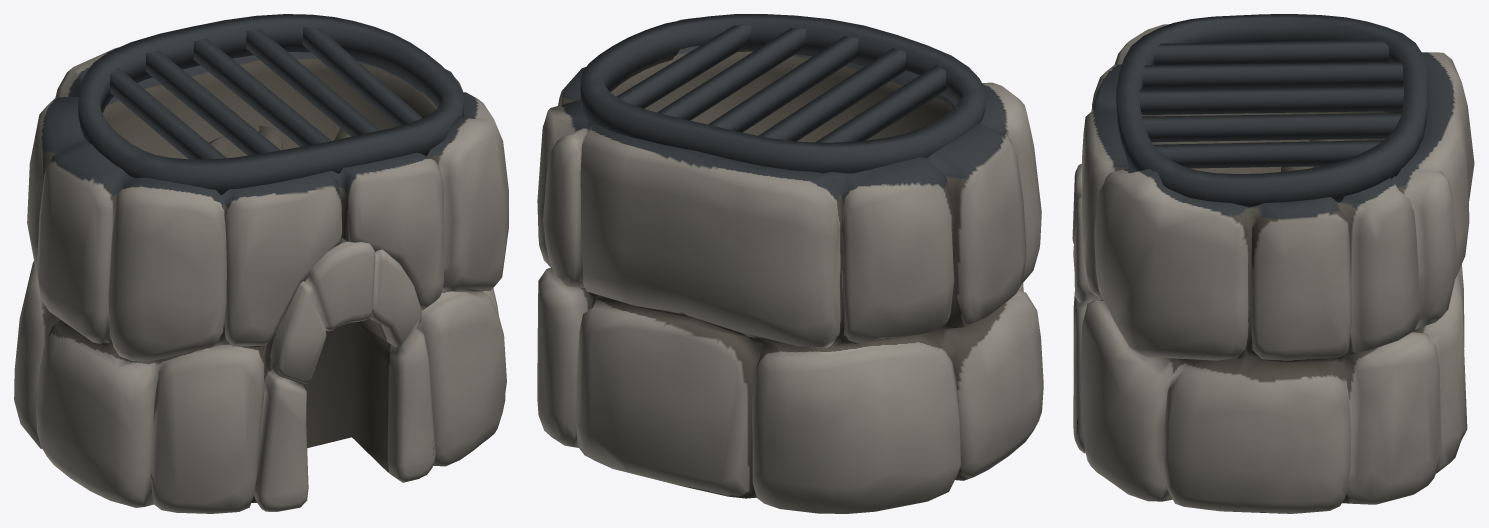
The model's file is stone_grill.fbx.
3 renders of one model, left to right at view 1: azimuth 30°, elevation 25°; view 2: azimuth 150°, elevation 25°; view 3: azimuth 270°, elevation 25°, orthographic. The views are drawn at different scales.
Visible parts, largest first — view 1: stone_grill; view 2: stone_grill; view 3: stone_grill.
Boxes of the visible parts, box(x1,y1,x2,y2) form: stone_grill: box(14, 14, 508, 513); stone_grill: box(537, 14, 1043, 513); stone_grill: box(1072, 14, 1474, 513).
Size of the model in its own units: 0.85 by 0.65 by 0.7.
1 material, 1 textured.
